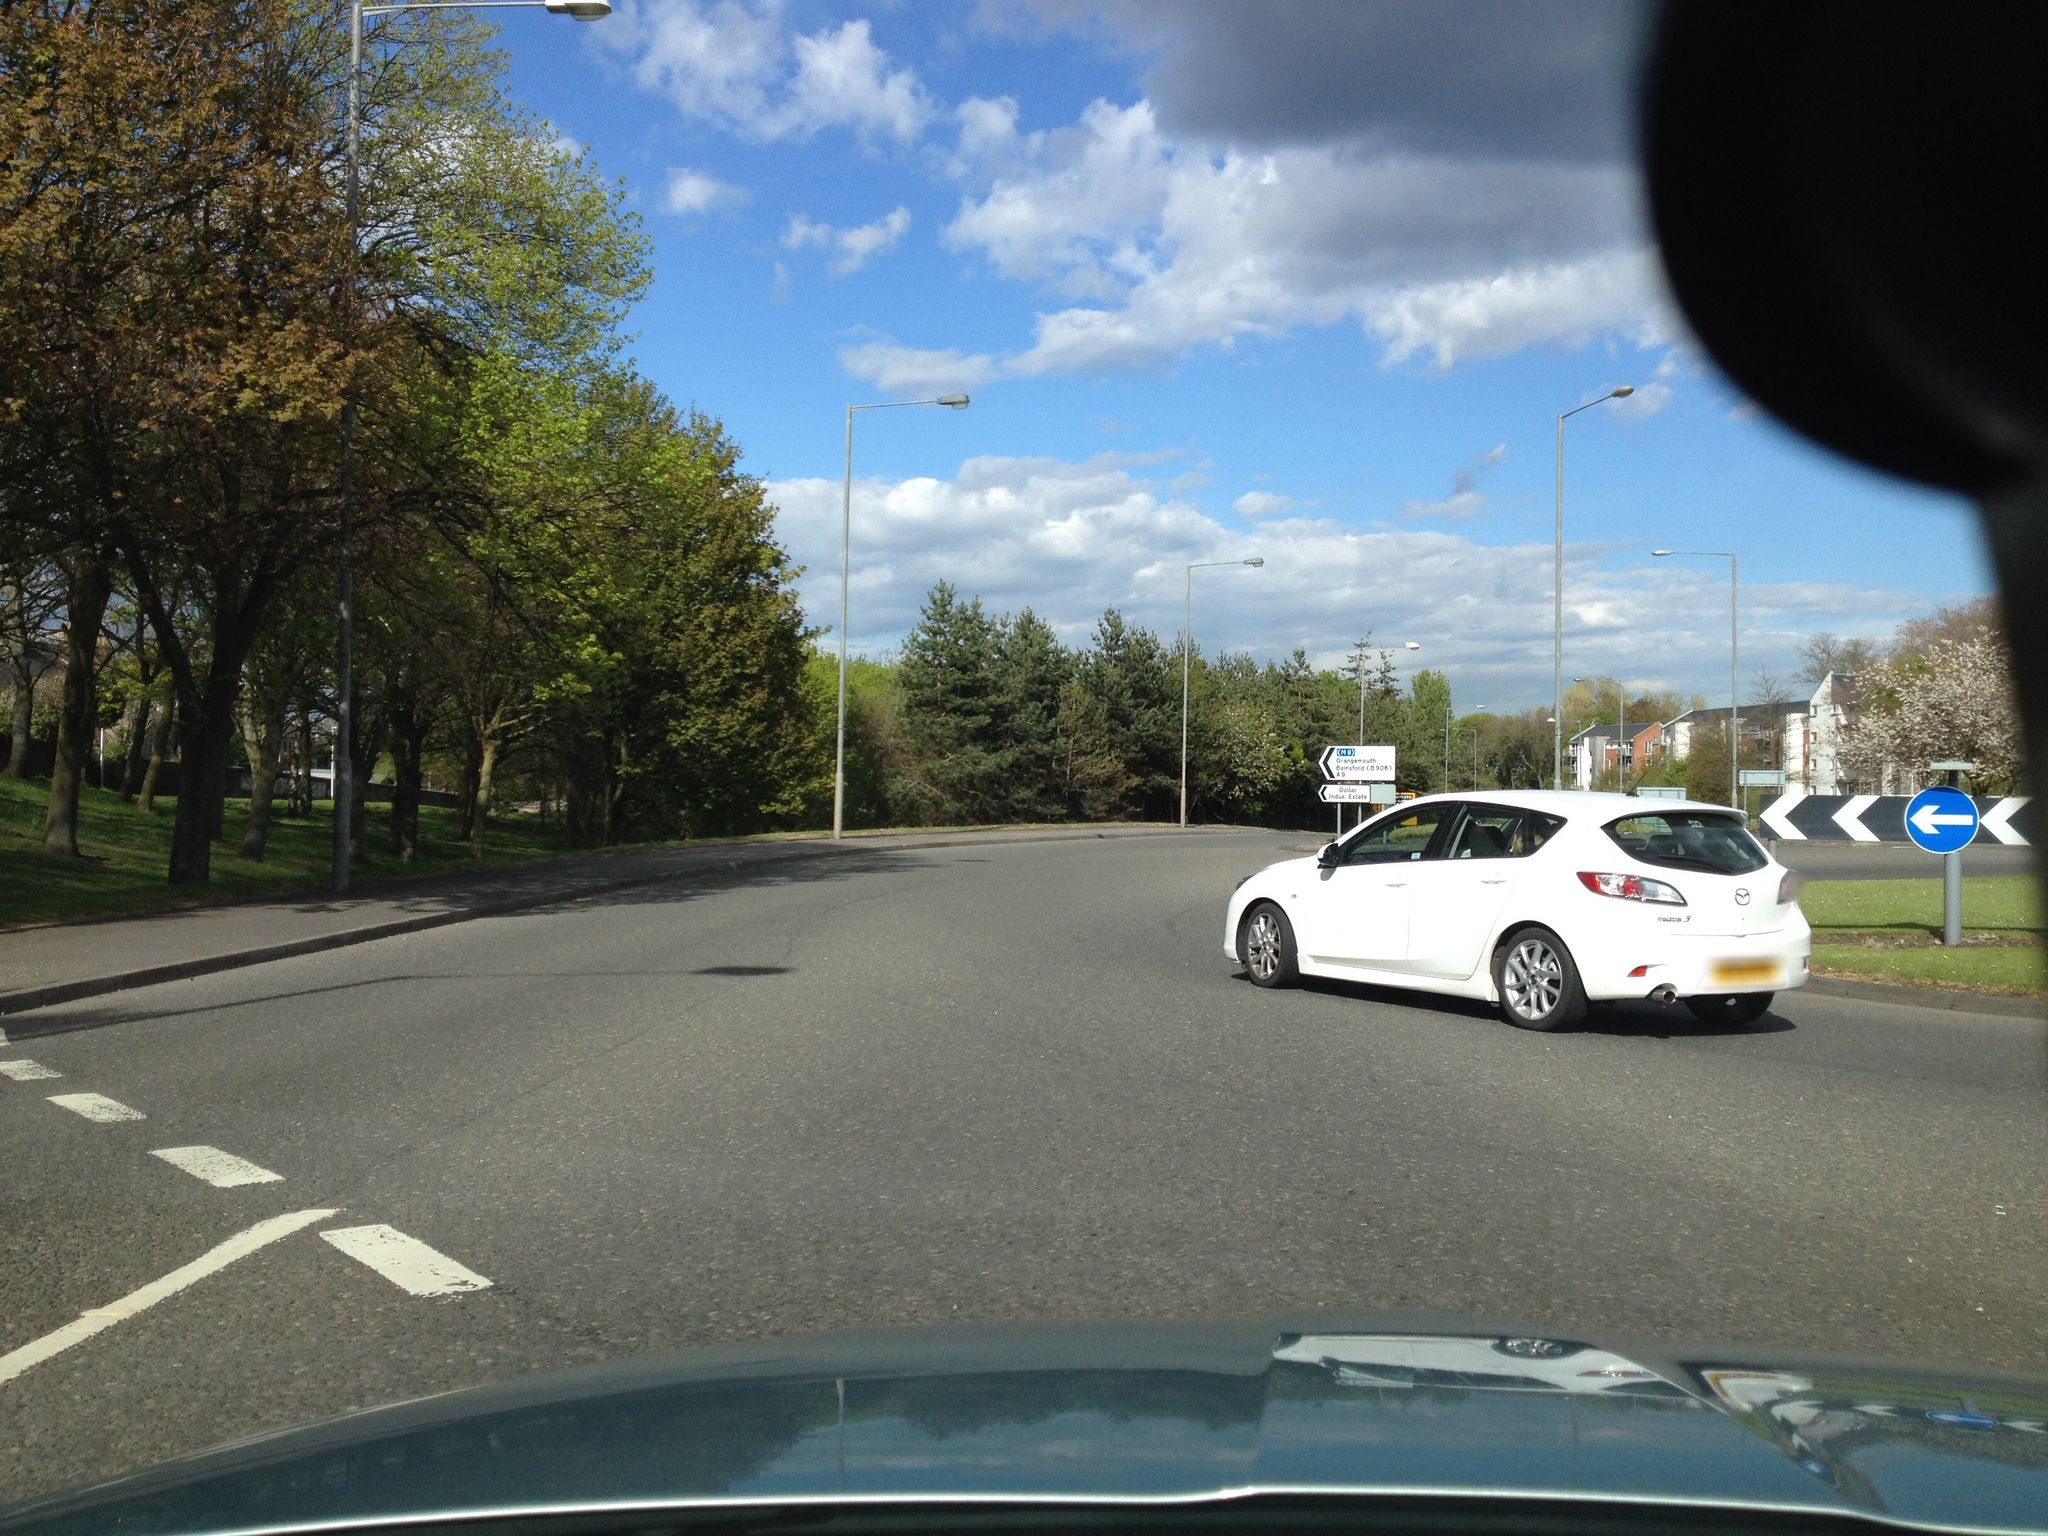car: (1222, 787, 1813, 1033)
